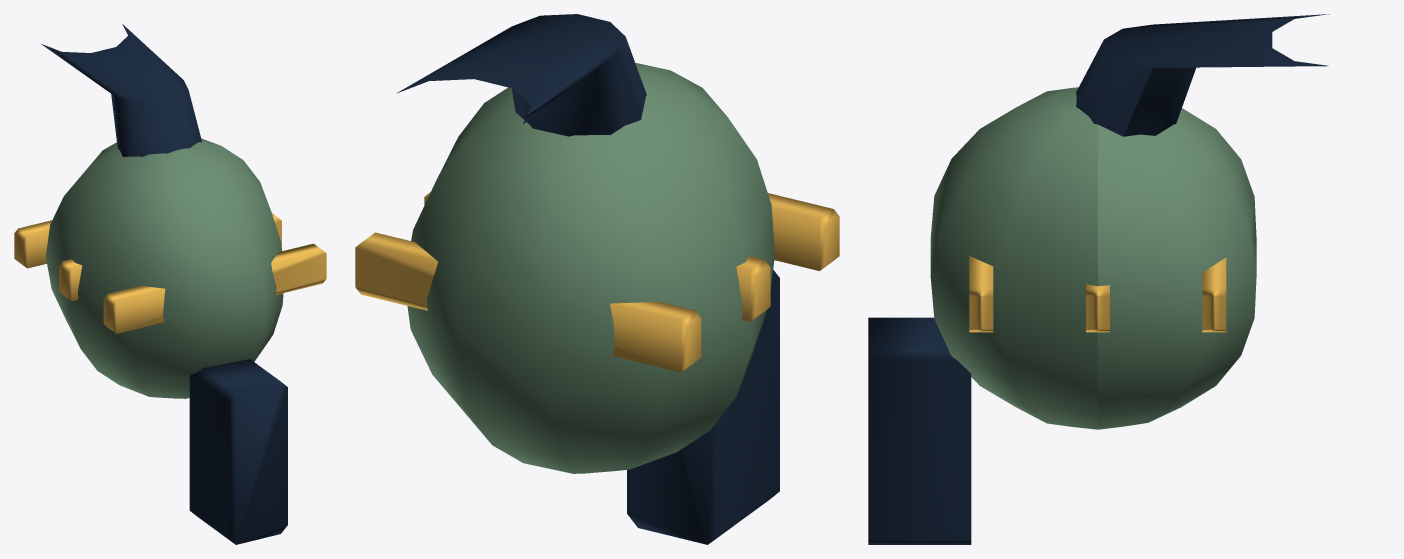
File: weapon_smoke-censer.glb
3 views of the same model, side by side, from view 1: azimuth 30°, elevation 25°; view 2: azimuth 150°, elevation 25°; view 3: azimuth 270°, elevation 25° (orthographic). The views are drawn at different scales.
Visible parts, largest first — view 1: Censer, Grip, Chimney, CageBand (×3); view 2: Censer, Grip, Chimney, CageBand (×3); view 3: Censer, Grip, Chimney, CageBand (×3).
Part boxes in pixels (bbox=[...]): Censer: bbox=[46, 138, 283, 398]; Grip: bbox=[189, 359, 287, 544]; Chimney: bbox=[41, 24, 201, 156]; CageBand (×3): bbox=[14, 213, 326, 333]; Censer: bbox=[407, 63, 774, 473]; Grip: bbox=[627, 270, 779, 544]; Chimney: bbox=[396, 14, 646, 136]; CageBand (×3): bbox=[355, 192, 839, 372]; Censer: bbox=[930, 87, 1256, 429]; Grip: bbox=[868, 317, 971, 544]; Chimney: bbox=[1076, 14, 1329, 136]; CageBand (×3): bbox=[969, 256, 1226, 332].
Bounding box in the file's own units: 0.47 × 0.79 × 0.7606.
